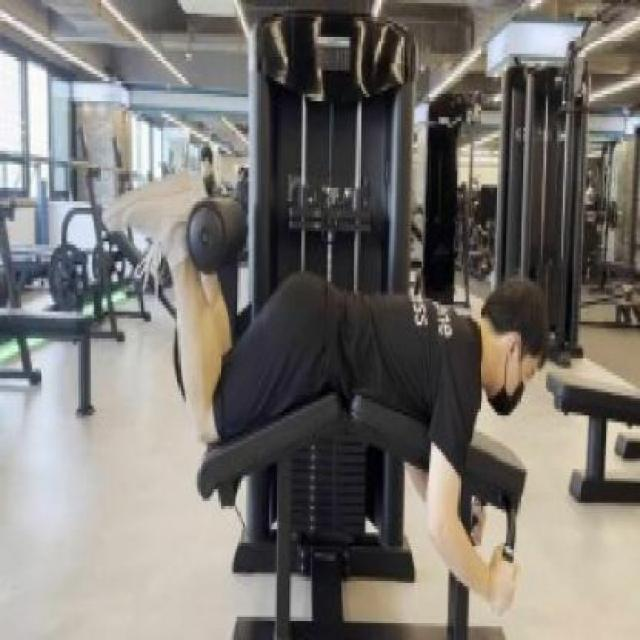reg curl machine: (97, 0, 546, 640)
